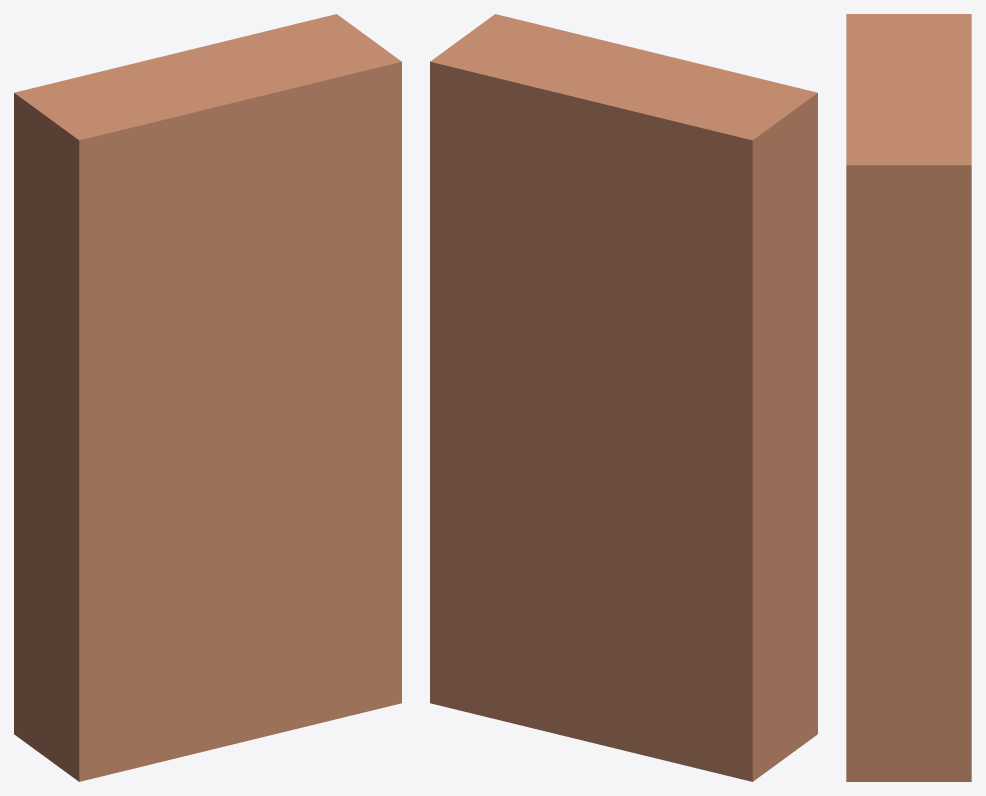
The picture shows the model from 3 angles, left to right: view 1: azimuth 30°, elevation 25°; view 2: azimuth 150°, elevation 25°; view 3: azimuth 270°, elevation 25°; orthographic projection. The views are drawn at different scales.
Parts seen in each view (by area): view 1: GF-L12-BLK-REDLINE-B2-B3-023; view 2: GF-L12-BLK-REDLINE-B2-B3-023; view 3: GF-L12-BLK-REDLINE-B2-B3-023.
Boxes of the visible parts, <box> form: GF-L12-BLK-REDLINE-B2-B3-023: <box>14,14,401,781</box>; GF-L12-BLK-REDLINE-B2-B3-023: <box>430,14,817,781</box>; GF-L12-BLK-REDLINE-B2-B3-023: <box>846,14,971,781</box>.
Bounding box in the file's own units: 0.1 × 0.19 × 0.035.
